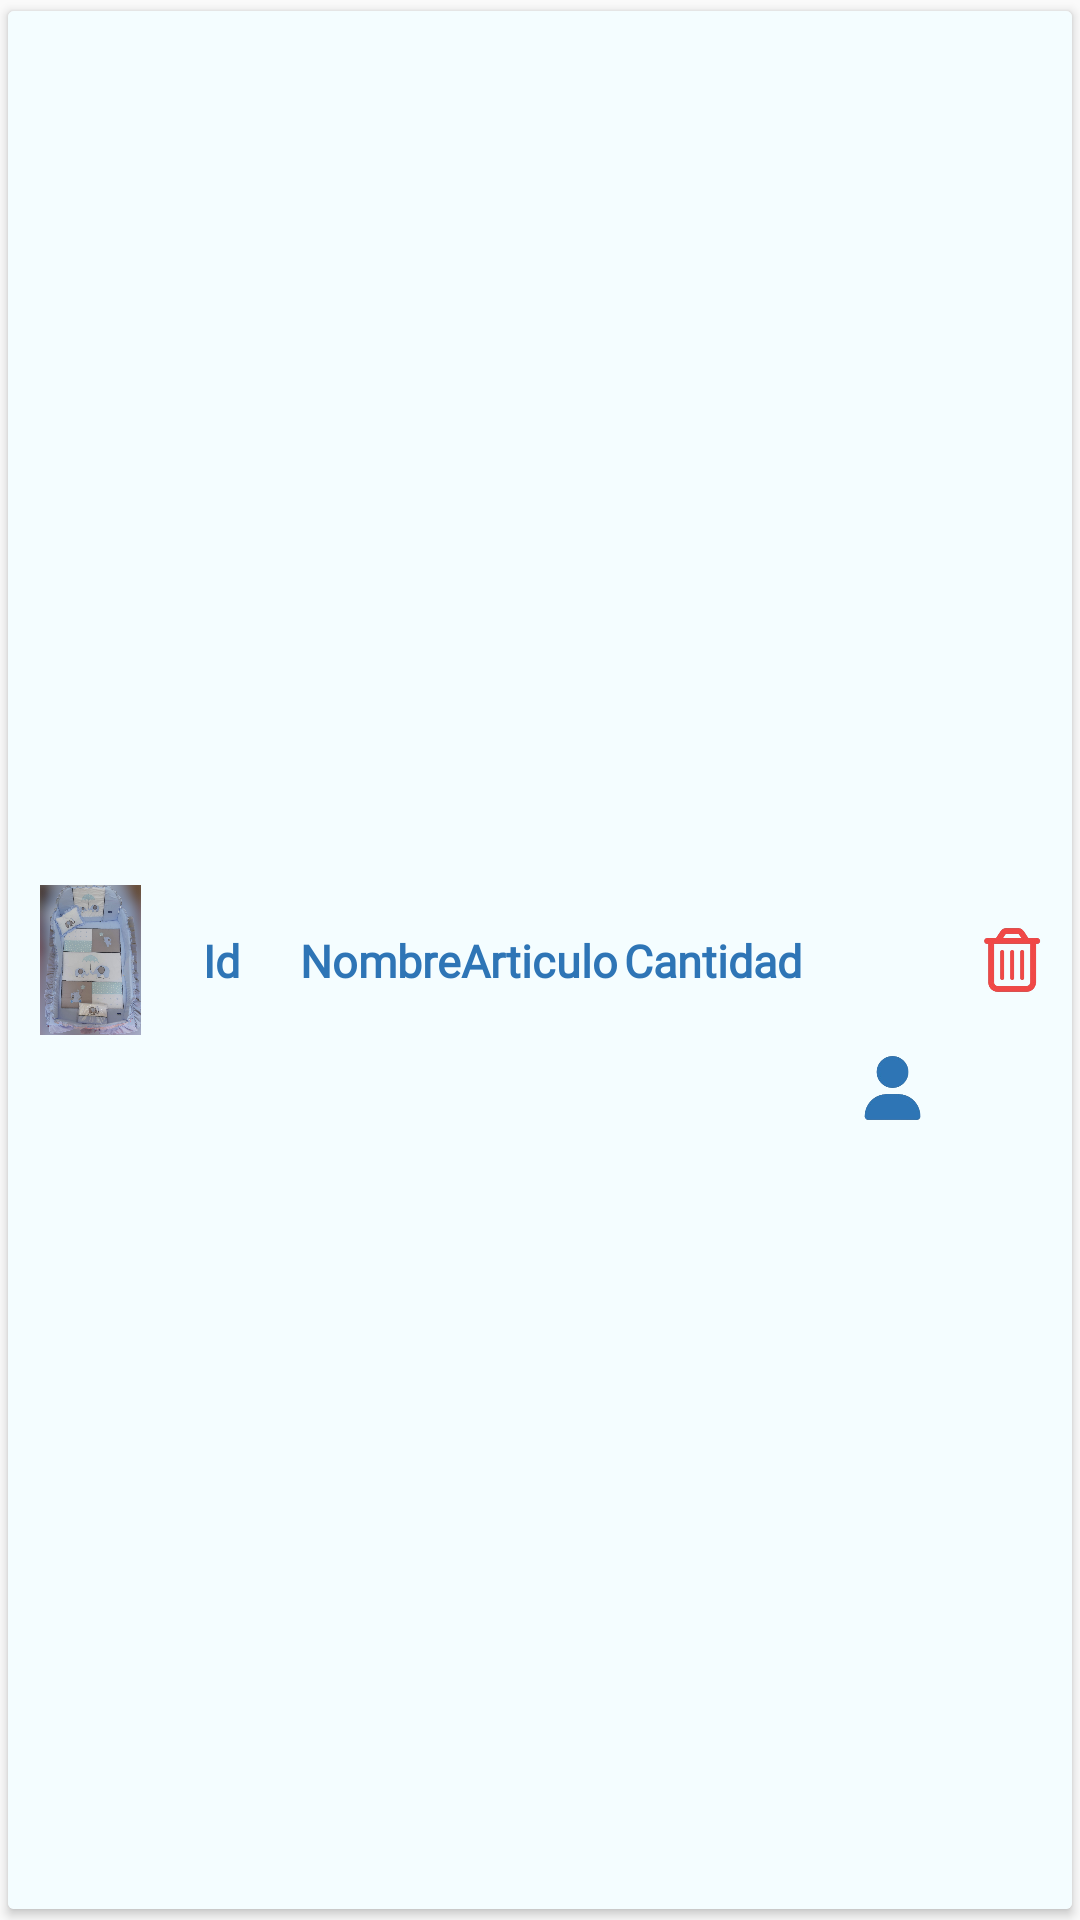

Point at icon controls on the screen. Image size 1080 x 1920, points as [x,y].
trash: [1012,960]
user: [892,1088]
